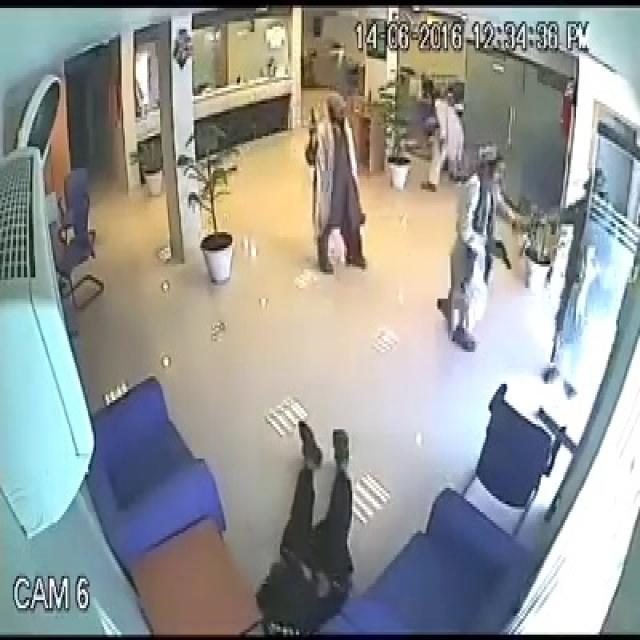weapon: (491, 234, 512, 266), (307, 101, 317, 128)
